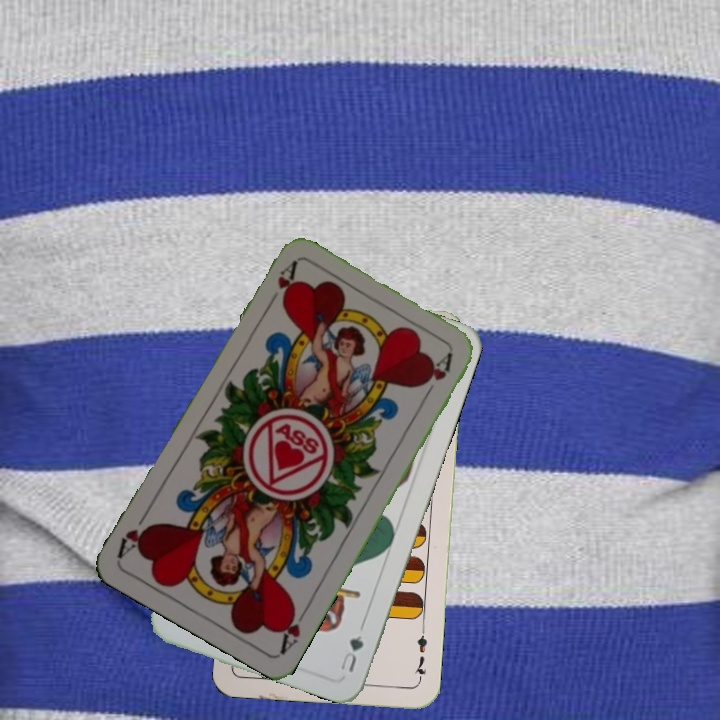E7: (410, 625, 430, 684)
GU: (336, 621, 367, 675)
HA: (262, 258, 300, 312), (275, 601, 312, 656)
